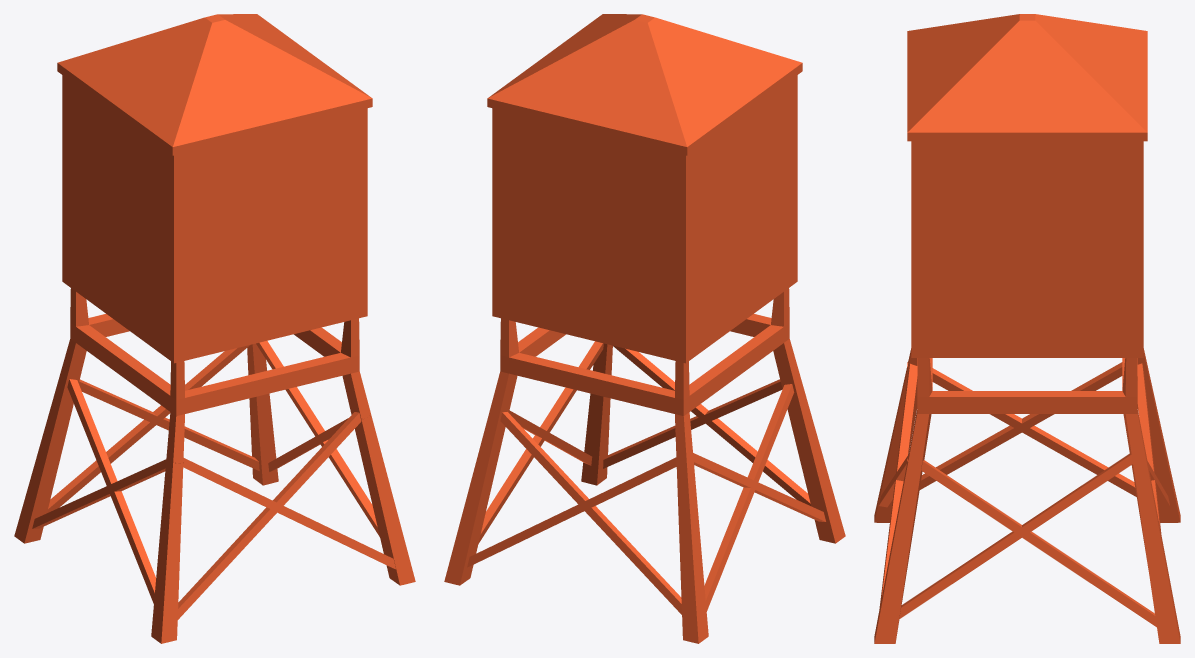
Rendered from Water_Tank.fbx.
The picture shows the model from 3 angles, left to right: view 1: azimuth 30°, elevation 25°; view 2: azimuth 150°, elevation 25°; view 3: azimuth 270°, elevation 25°; orthographic projection. The views are drawn at different scales.
Parts seen in each view (by area): view 1: Water_Tower; view 2: Water_Tower; view 3: Water_Tower.
Boxes of the visible parts, left/top/right/bottom form: Water_Tower: left=14, top=14, right=415, bottom=643; Water_Tower: left=444, top=14, right=845, bottom=643; Water_Tower: left=874, top=14, right=1180, bottom=643.
Bounding box in the file's own units: 688 × 1397 × 689.
